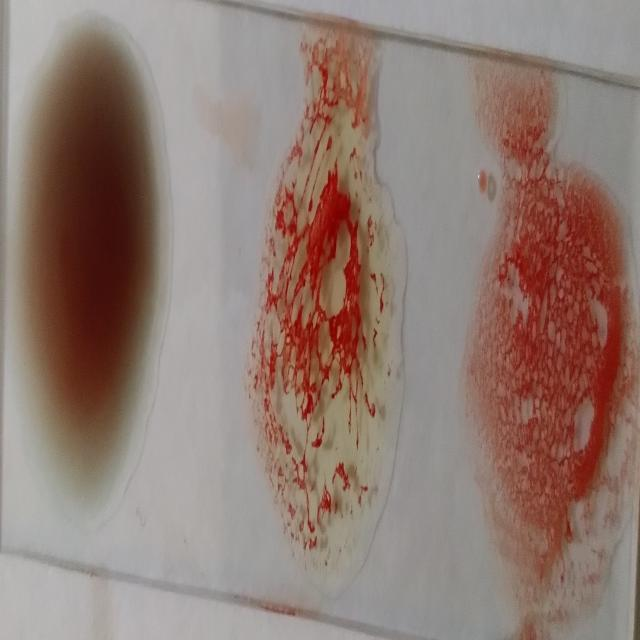B: (263, 110, 402, 574)
D: (478, 159, 634, 613)
